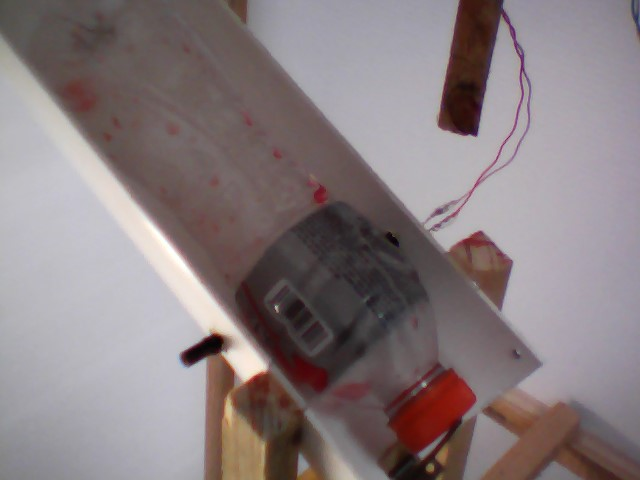plastico: (25, 1, 486, 459)
